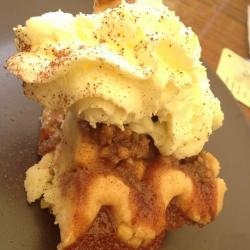apple_pie: (24, 110, 225, 250)
chantilly: (12, 9, 219, 162)
